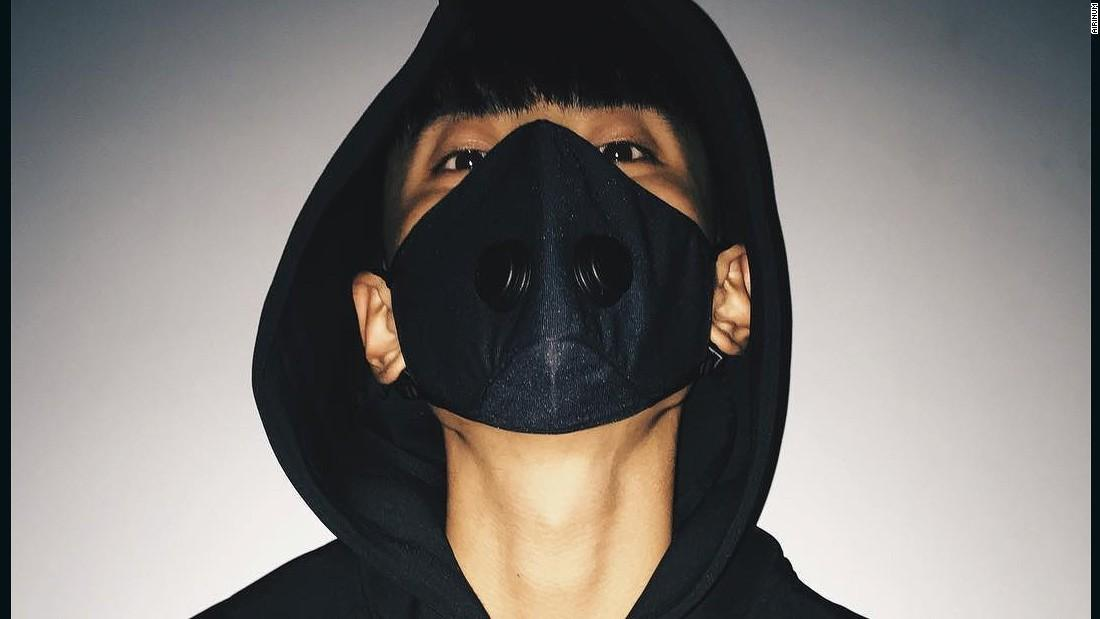Wearing Mask: (333, 0, 775, 456)
